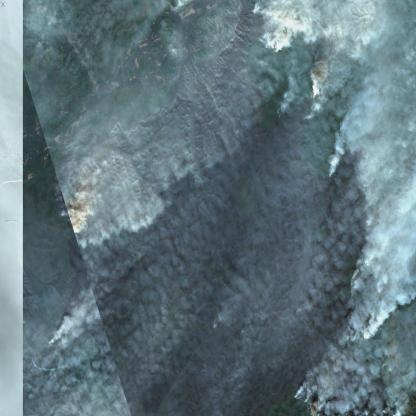fire: (249, 1, 294, 59), (347, 278, 372, 344), (290, 385, 312, 411), (272, 98, 292, 118), (45, 335, 67, 353), (306, 79, 320, 102), (328, 158, 337, 182)
